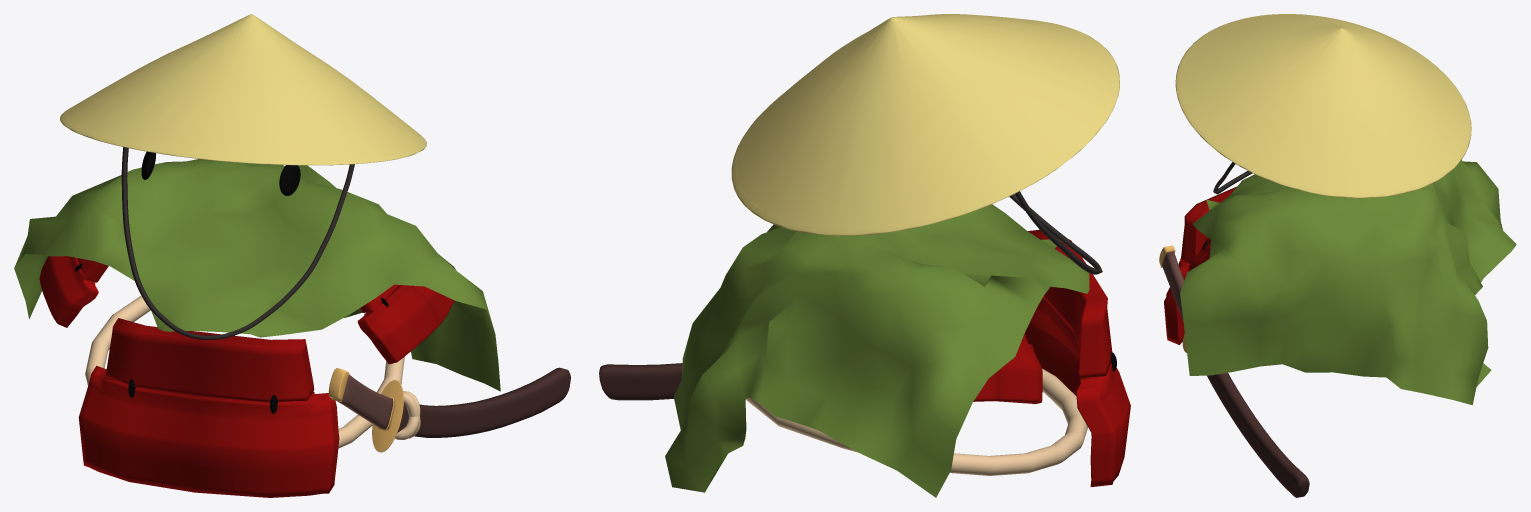
File: samurai_capybara.glb
3 renders of one model, left to right at view 1: azimuth 30°, elevation 25°; view 2: azimuth 150°, elevation 25°; view 3: azimuth 270°, elevation 25°, orthographic. The views are drawn at different scales.
Parts seen in each view (by area): view 1: Plane, Sphere.002, Circle.002, Cube.003, Sphere.003, BezierCircle.001, Catenary, Sphere; view 2: Plane, Circle.002, Sphere.002, BezierCircle.001, Cube.003, Sphere.003, Catenary; view 3: Plane, Circle.002, Cube.003, Sphere.002.
Boxes of the visible parts, x1,y1,x2,y2 form: Plane: [14, 159, 500, 391]; Sphere.002: [78, 318, 339, 497]; Circle.002: [60, 14, 426, 165]; Cube.003: [328, 367, 570, 452]; Sphere.003: [39, 256, 454, 364]; BezierCircle.001: [85, 295, 420, 448]; Catenary: [121, 147, 354, 339]; Sphere: [141, 151, 300, 195]; Plane: [665, 204, 1089, 497]; Circle.002: [731, 14, 1119, 235]; Sphere.002: [1025, 229, 1130, 487]; BezierCircle.001: [746, 368, 1087, 475]; Cube.003: [599, 363, 682, 400]; Sphere.003: [973, 333, 1042, 404]; Catenary: [1009, 191, 1102, 274]; Plane: [1180, 160, 1516, 405]; Circle.002: [1175, 14, 1471, 198]; Cube.003: [1159, 245, 1309, 497]; Sphere.002: [1164, 186, 1236, 344].
Size of what is drawn, in the model's own units: 3.78 by 3.27 by 2.97.
